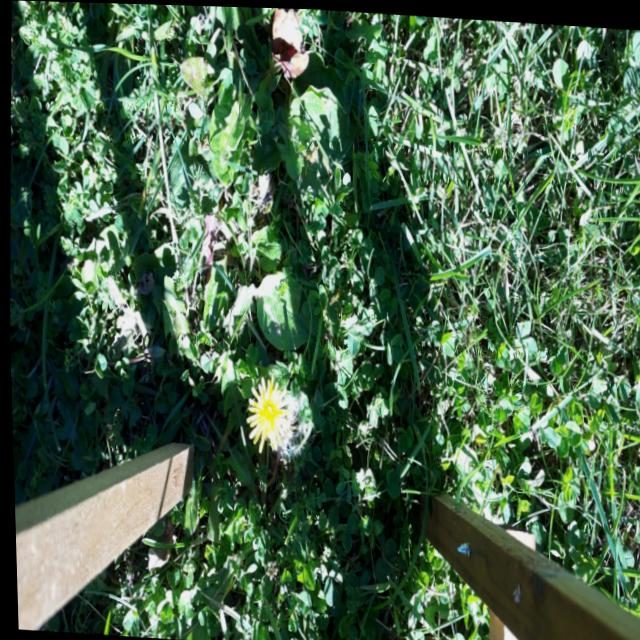base: (248, 466, 270, 501)
